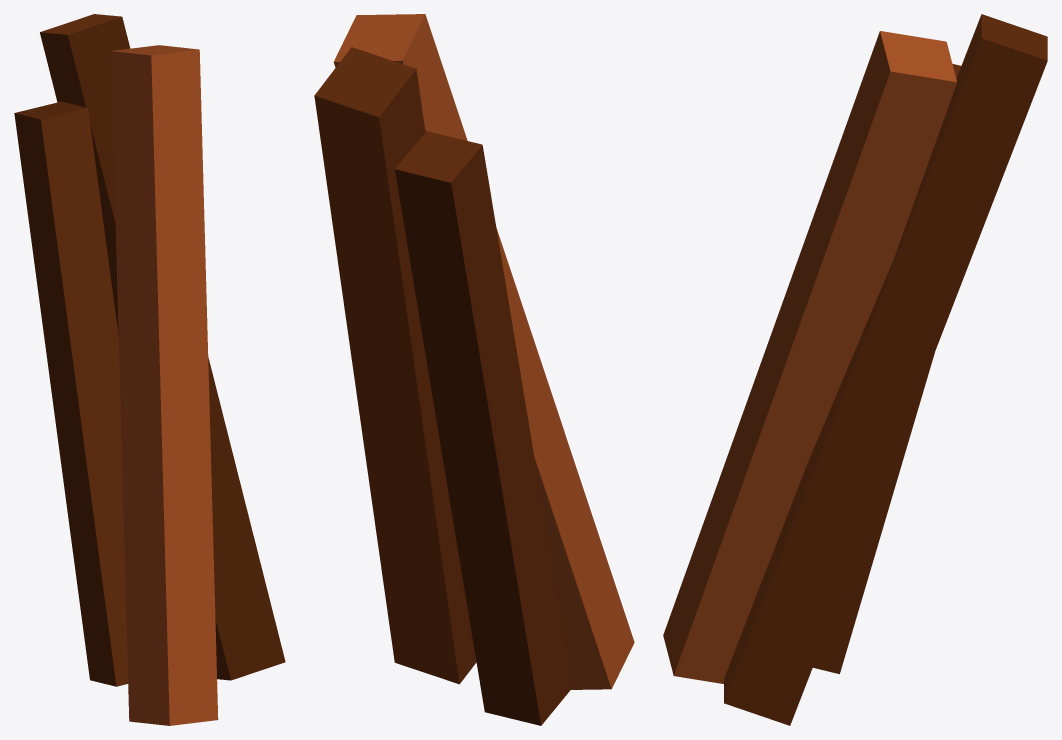
The model's file is Blacksmith Tool 03.FBX.
3 renders of one model, left to right at view 1: azimuth 30°, elevation 25°; view 2: azimuth 150°, elevation 25°; view 3: azimuth 270°, elevation 25°, orthographic. The views are drawn at different scales.
Visible parts, largest first — view 1: Blacksmith Tool 03; view 2: Blacksmith Tool 03; view 3: Blacksmith Tool 03.
Boxes of the visible parts, x1,y1,x2,y2 form: Blacksmith Tool 03: (14,14,285,725); Blacksmith Tool 03: (314,14,634,725); Blacksmith Tool 03: (663,14,1047,725).
Size of the model in its own units: 47.43 by 177 by 91.14.
